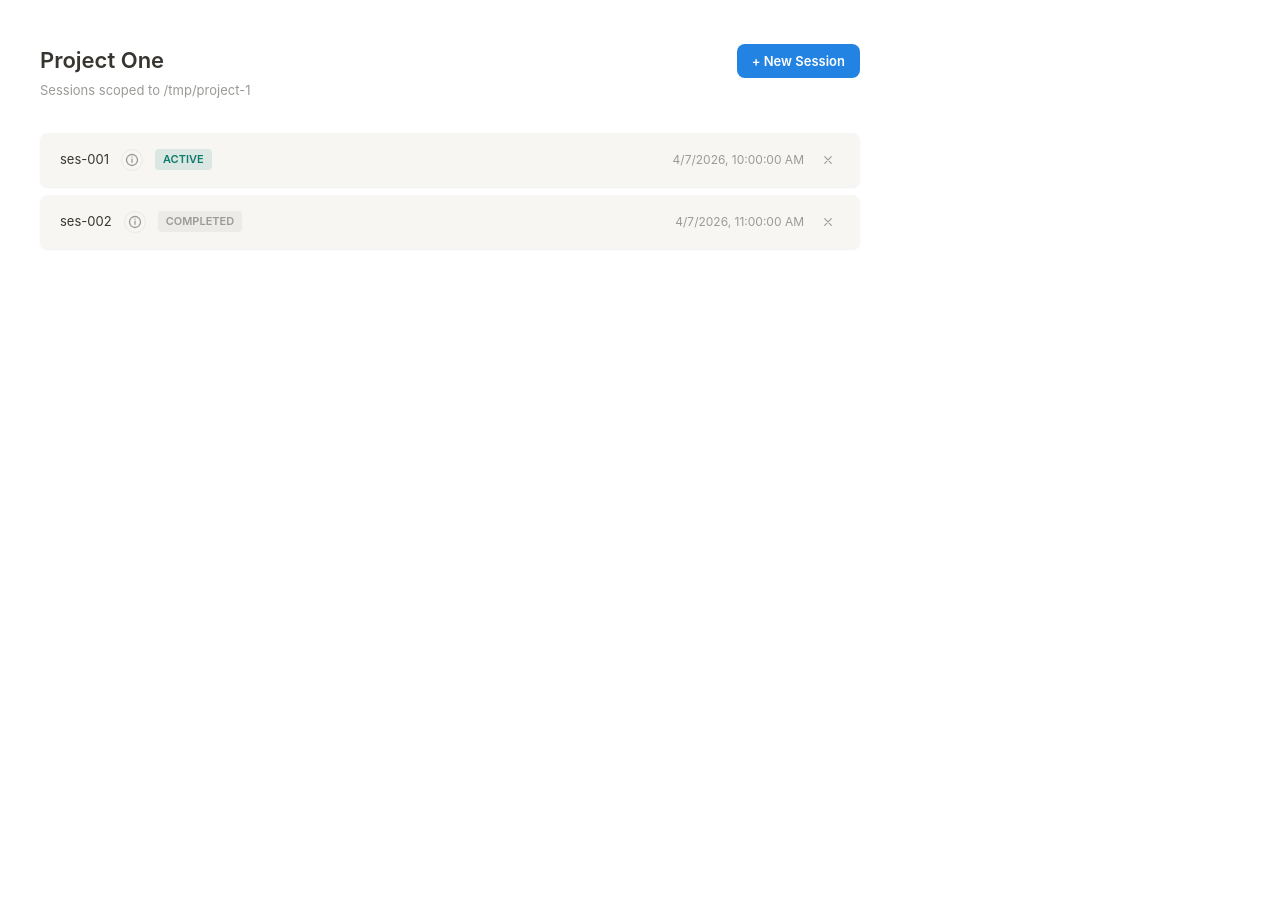
it: SessionListPage › switches open context panel between sessions
The width and height of the screenshot is (1280, 912).
Click the button with test id "context-session-ses-001": (132, 160) [121,148,143,170]
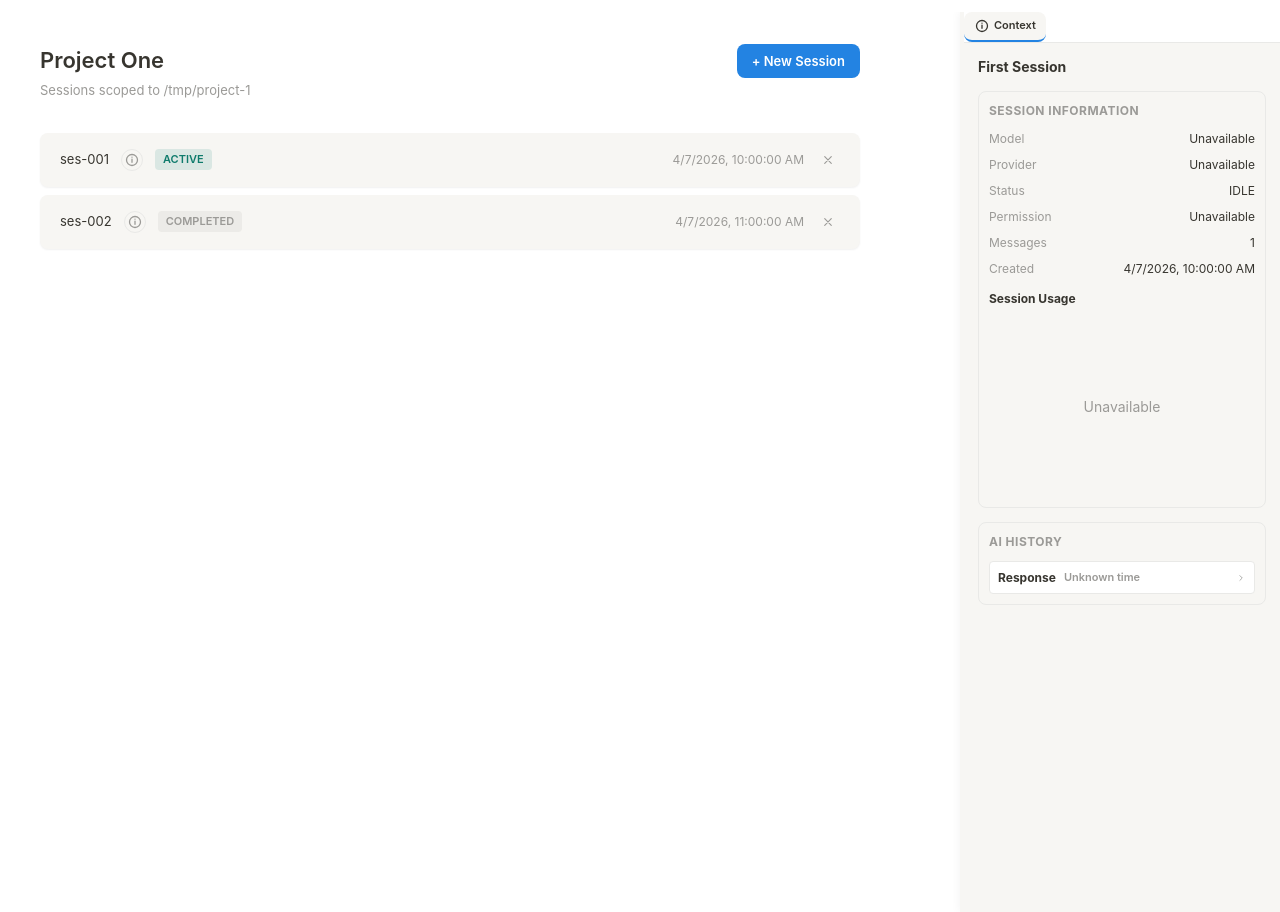
Expected: the button with aria-label "Expand AI history entry 1" is shown
Click the button with aria-label "Expand AI history entry 1": (1122, 578) [998,570,1246,585]
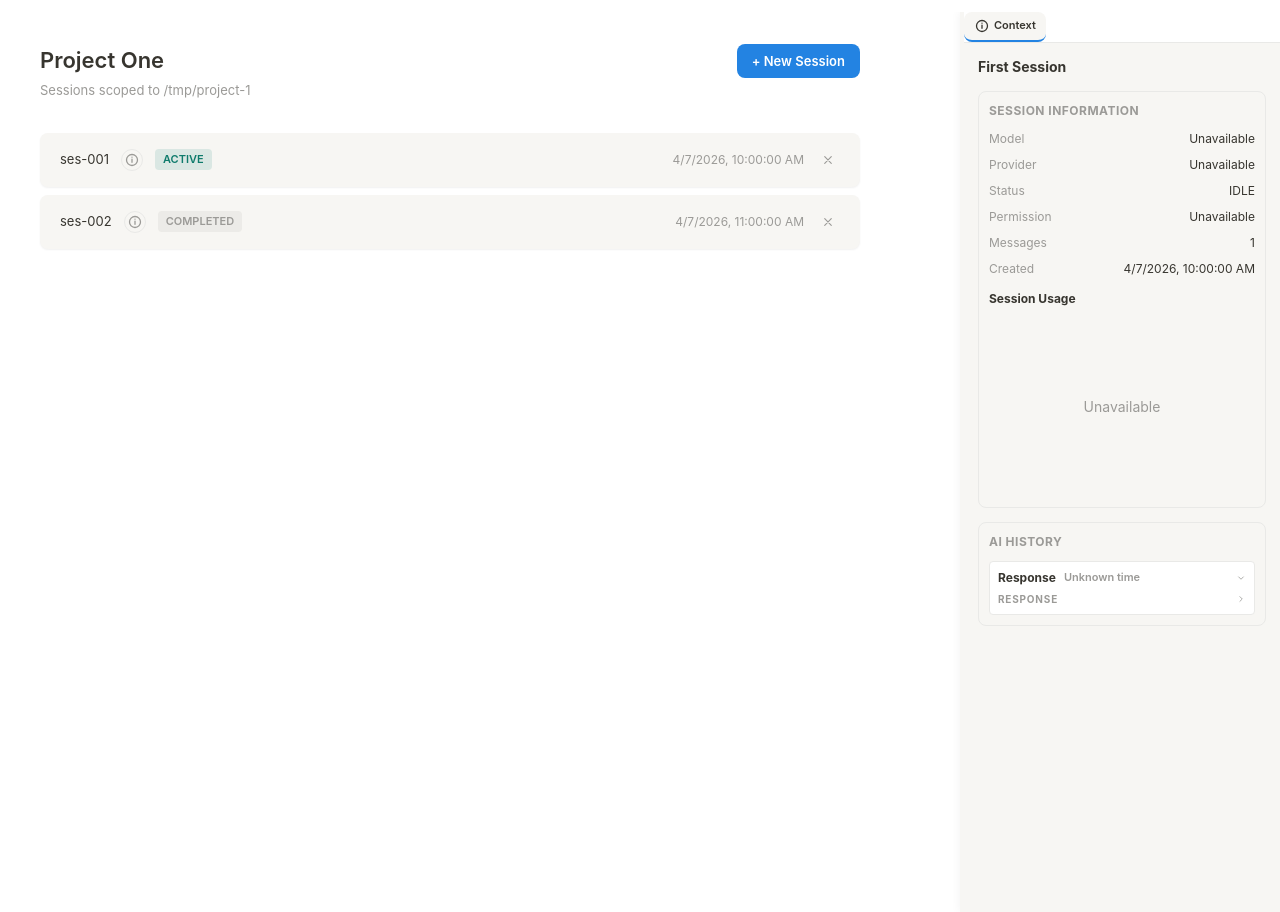
Click the button with aria-label "Expand response for AI history entry 1": (1122, 599) [998,593,1246,606]
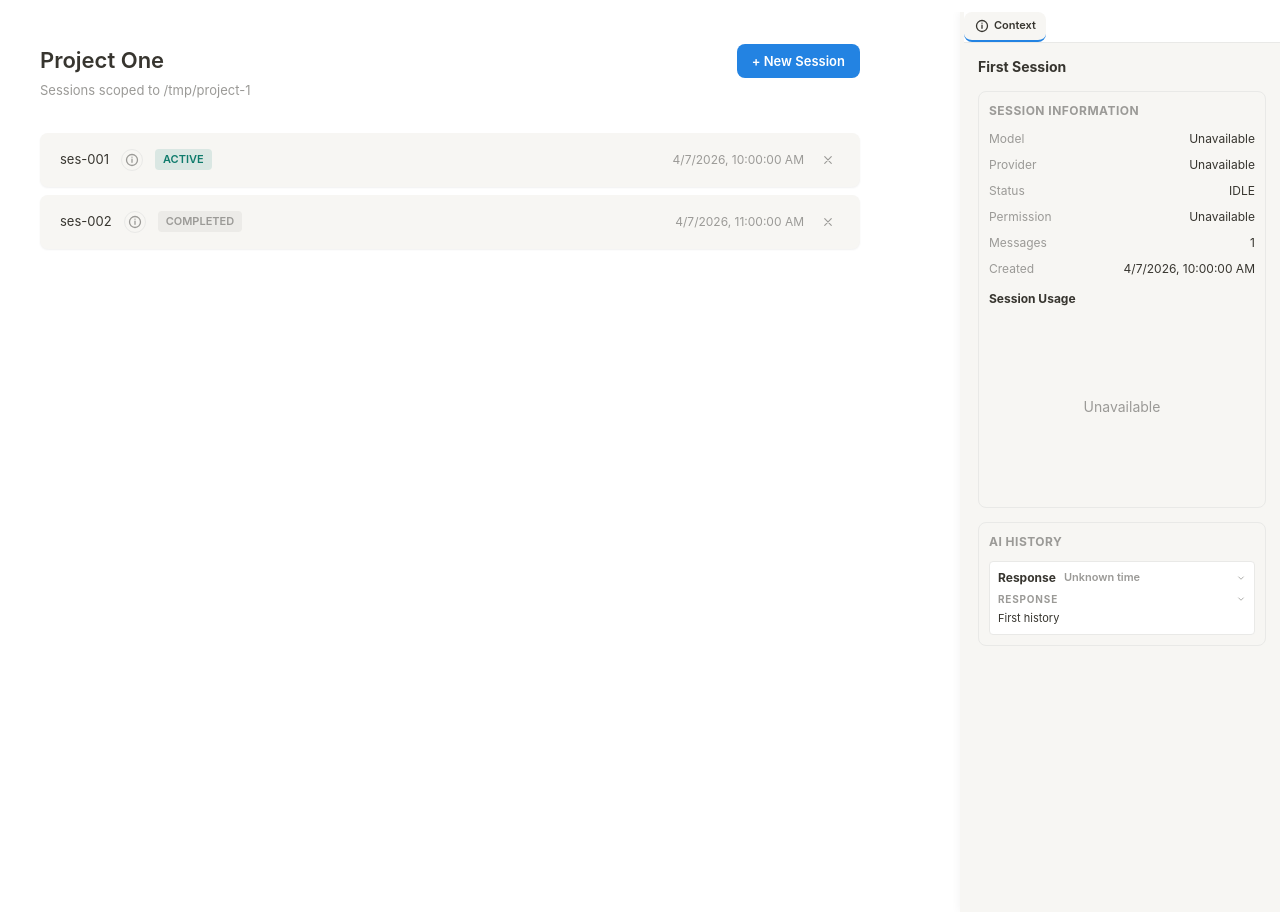
Expected: the text "First history" is shown, [998,610,1059,624]
Click the button with test id "context-session-ses-002": (135, 222) [124,210,146,232]
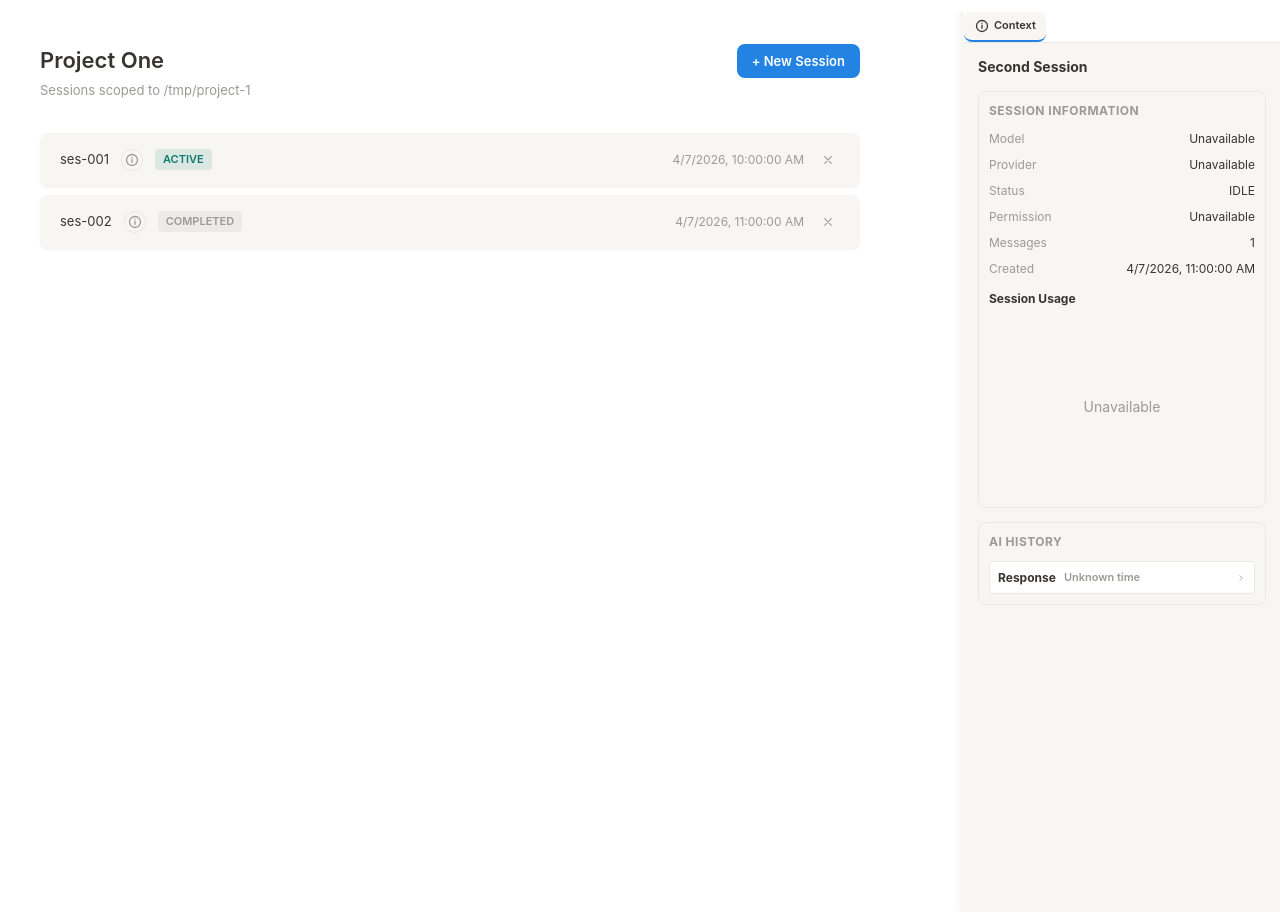
Click the button with aria-label "Expand AI history entry 1": (1122, 578) [998,570,1246,585]
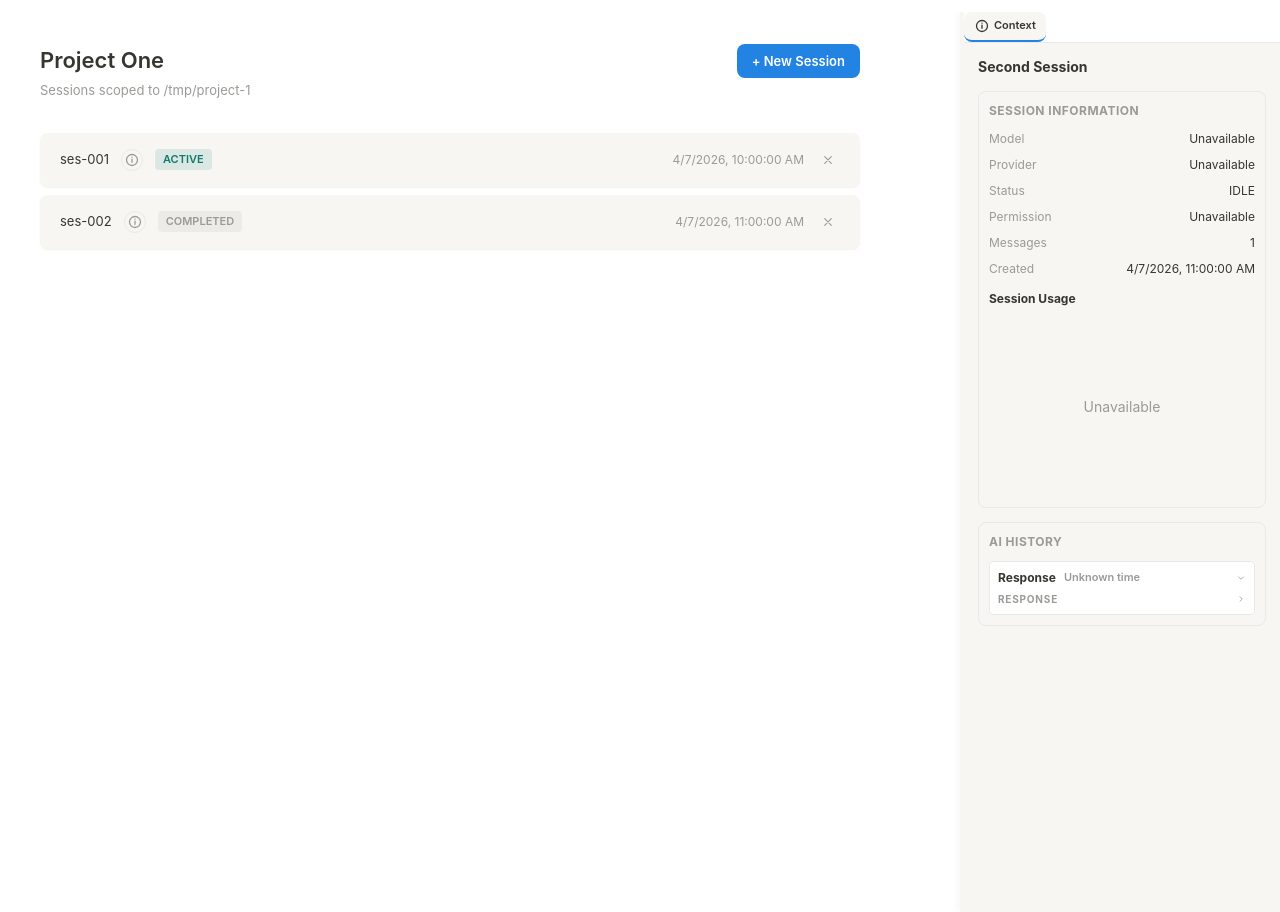
Click the button with aria-label "Expand response for AI history entry 1": (1122, 599) [998,593,1246,606]
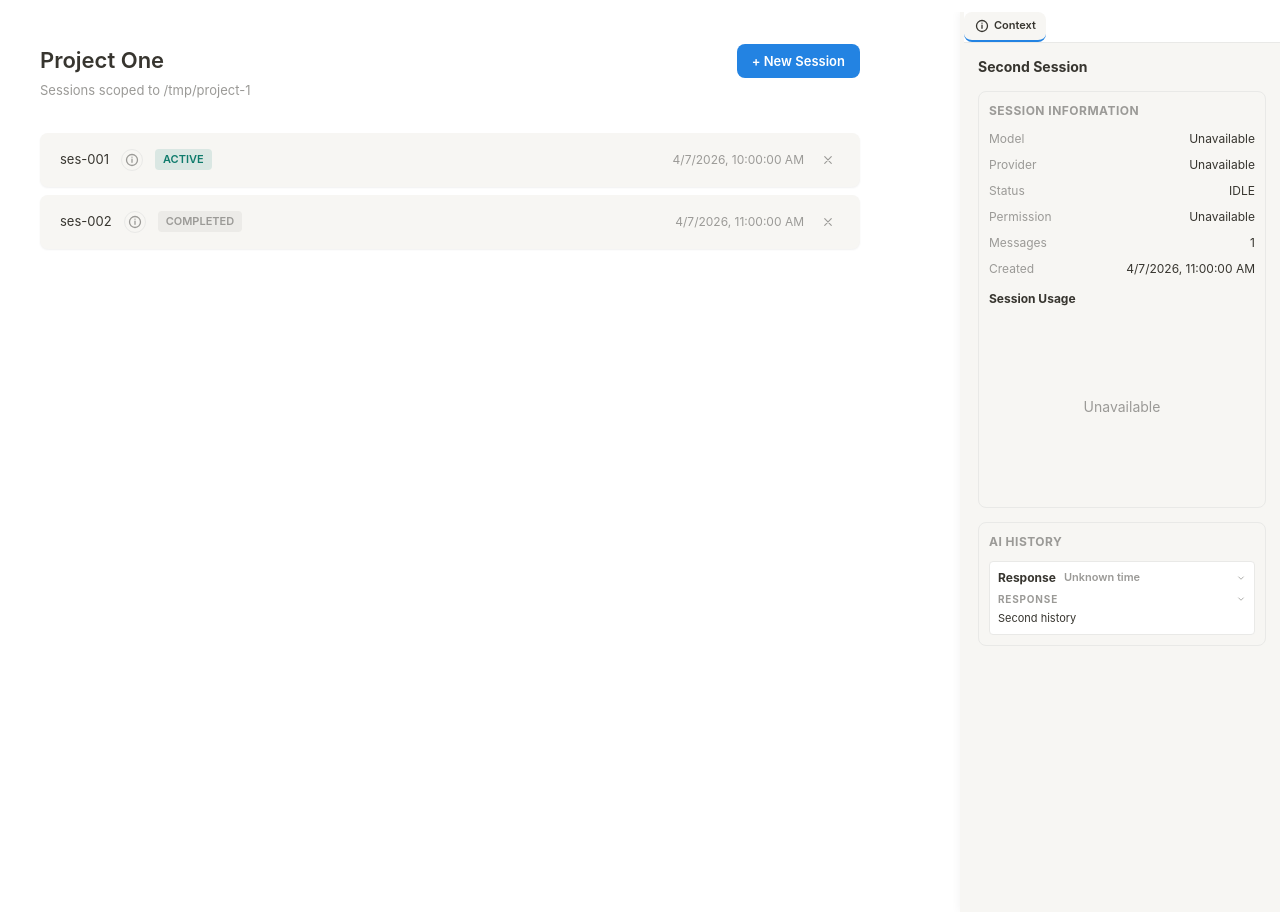
Expected: the text "Second history" is shown, [998,610,1076,624]
